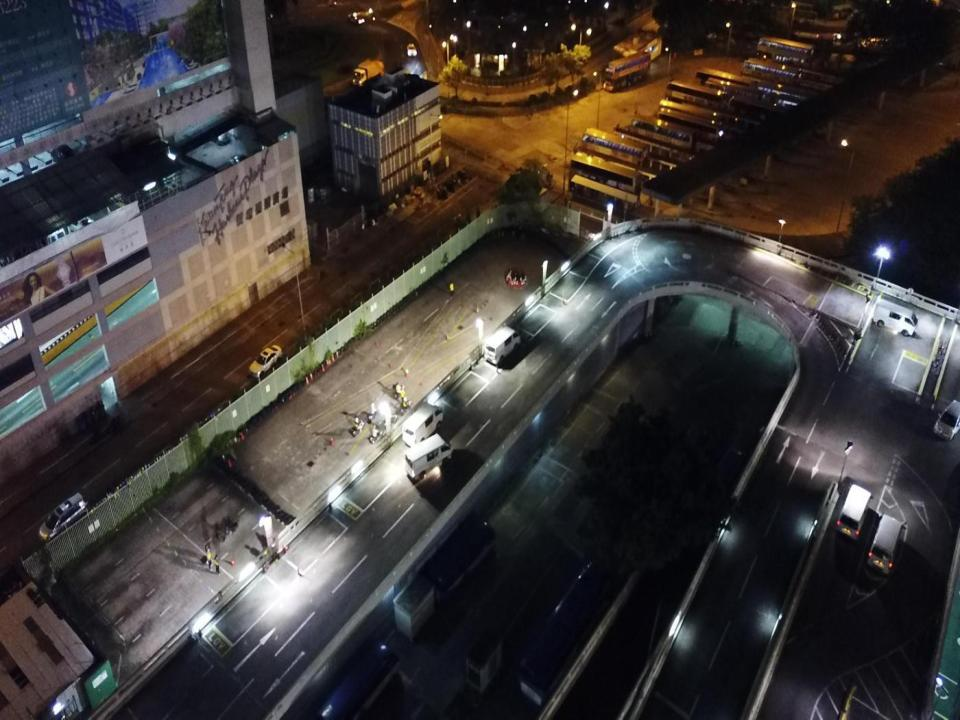bus: (518, 559, 610, 713), (305, 639, 399, 719), (420, 511, 496, 603), (568, 154, 642, 206), (580, 127, 647, 171), (657, 108, 725, 150), (629, 114, 696, 154), (728, 93, 789, 132), (663, 80, 726, 117), (694, 66, 758, 100), (757, 33, 815, 69), (743, 57, 801, 92), (603, 52, 649, 92)
car: (932, 398, 960, 442), (250, 344, 282, 380), (406, 43, 416, 56)
truck: (352, 59, 384, 86)
van: (38, 490, 86, 544), (866, 513, 906, 572), (405, 433, 451, 479), (836, 484, 871, 538), (873, 297, 918, 336), (402, 403, 443, 444), (483, 327, 522, 365)
